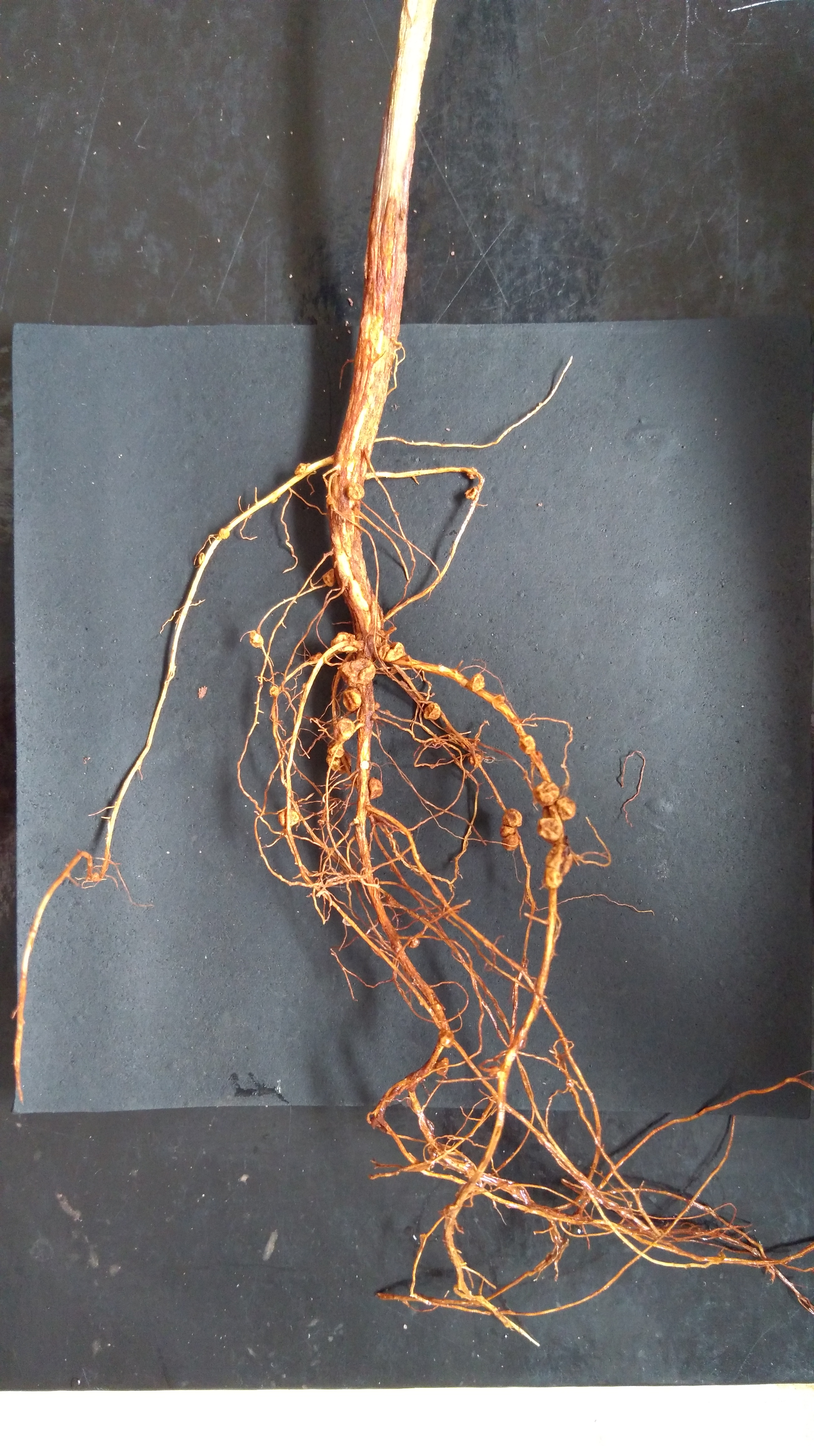nodule: (543, 843, 572, 890), (337, 657, 376, 686), (532, 779, 560, 807), (536, 817, 562, 844), (377, 641, 406, 662), (326, 750, 351, 773), (330, 632, 357, 653), (556, 795, 576, 822), (334, 717, 356, 741), (342, 686, 362, 712), (277, 809, 300, 828), (501, 808, 523, 827), (466, 672, 485, 692), (518, 734, 536, 755), (368, 777, 383, 800), (346, 482, 365, 500), (327, 740, 345, 758), (424, 702, 441, 721), (501, 834, 520, 851), (438, 1029, 454, 1048), (433, 1057, 449, 1076), (249, 629, 264, 648), (322, 568, 336, 587), (294, 463, 311, 476), (499, 825, 516, 838), (542, 804, 555, 821), (468, 752, 482, 767), (465, 486, 478, 500), (407, 935, 420, 949), (387, 893, 398, 908), (467, 466, 478, 480), (493, 693, 505, 704), (310, 652, 323, 662), (219, 528, 230, 539), (269, 685, 279, 697), (270, 495, 281, 504), (342, 917, 353, 926), (91, 872, 100, 883), (326, 496, 335, 505), (377, 629, 386, 638), (199, 552, 205, 565), (374, 700, 380, 712), (370, 712, 378, 721), (536, 750, 543, 759), (353, 818, 360, 825), (317, 818, 325, 824), (384, 709, 391, 715), (301, 682, 306, 690), (334, 560, 338, 568)
